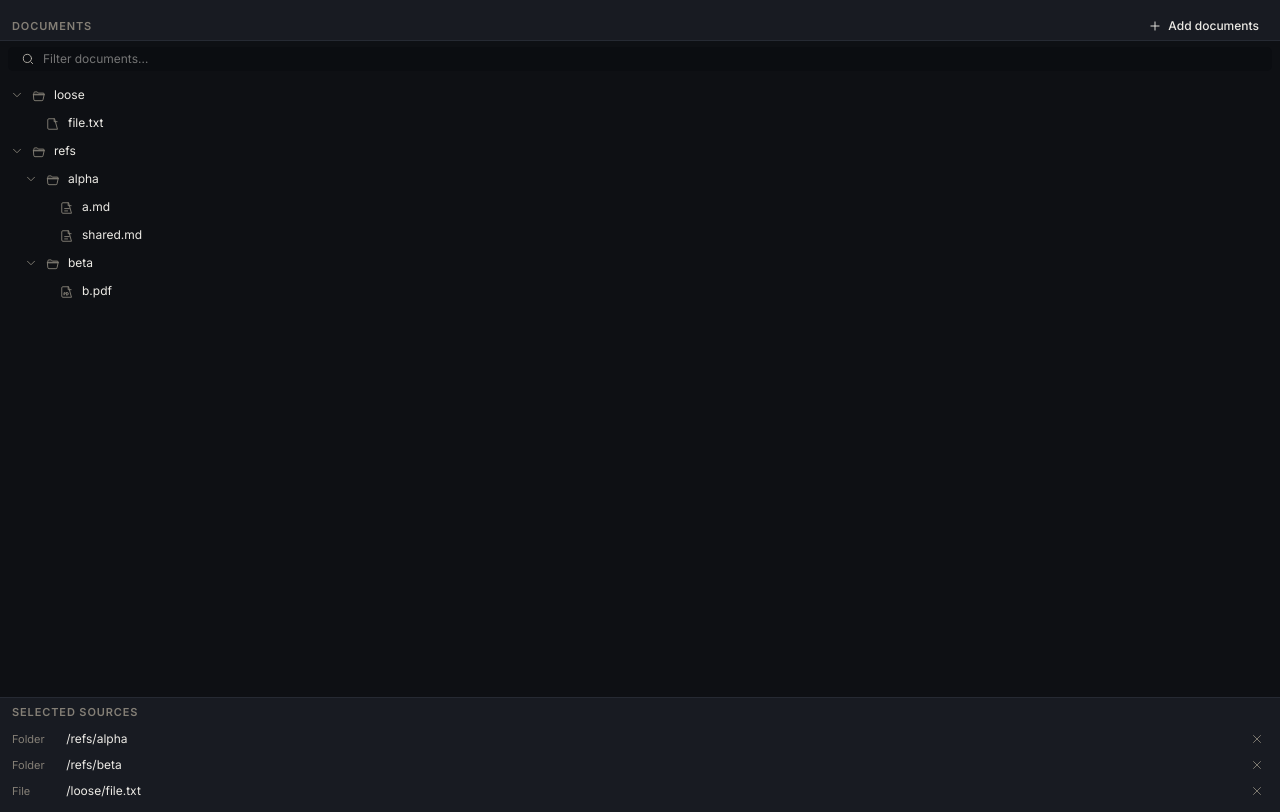
Scenario: DPN-FR-ZMBQ: the Add documents choice › DPN-FR-ZMBQ: a press outside the choice, and a second press on the button, close it
Check: the element showing "loose file.txt refs alpha a.md shared.md beta b.pdf" is shown, box [10,87,142,299]
Click the button "Add documents" at [1204, 26], box [1139,14,1268,38]
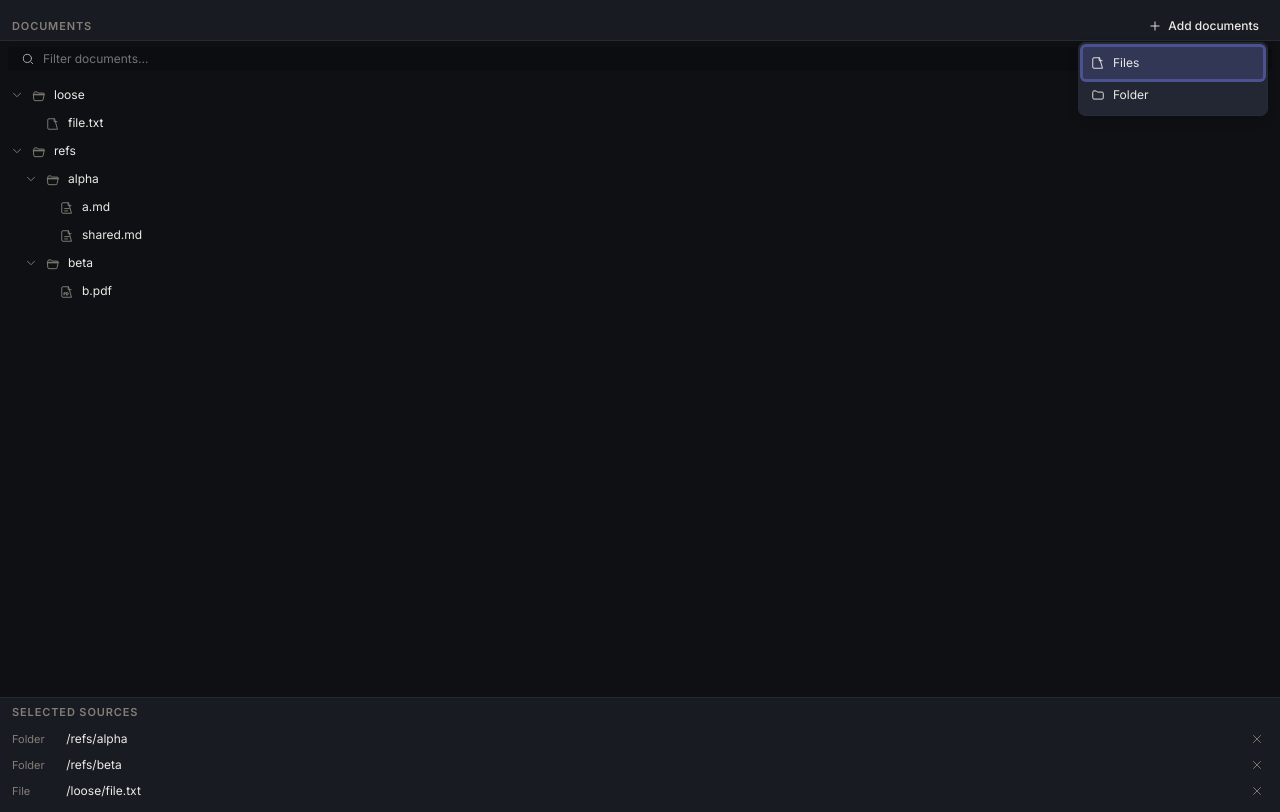
Click the element showing "loose file.txt refs alpha a.md shared.md beta b.pdf" at [69, 94], box [10,87,142,299]
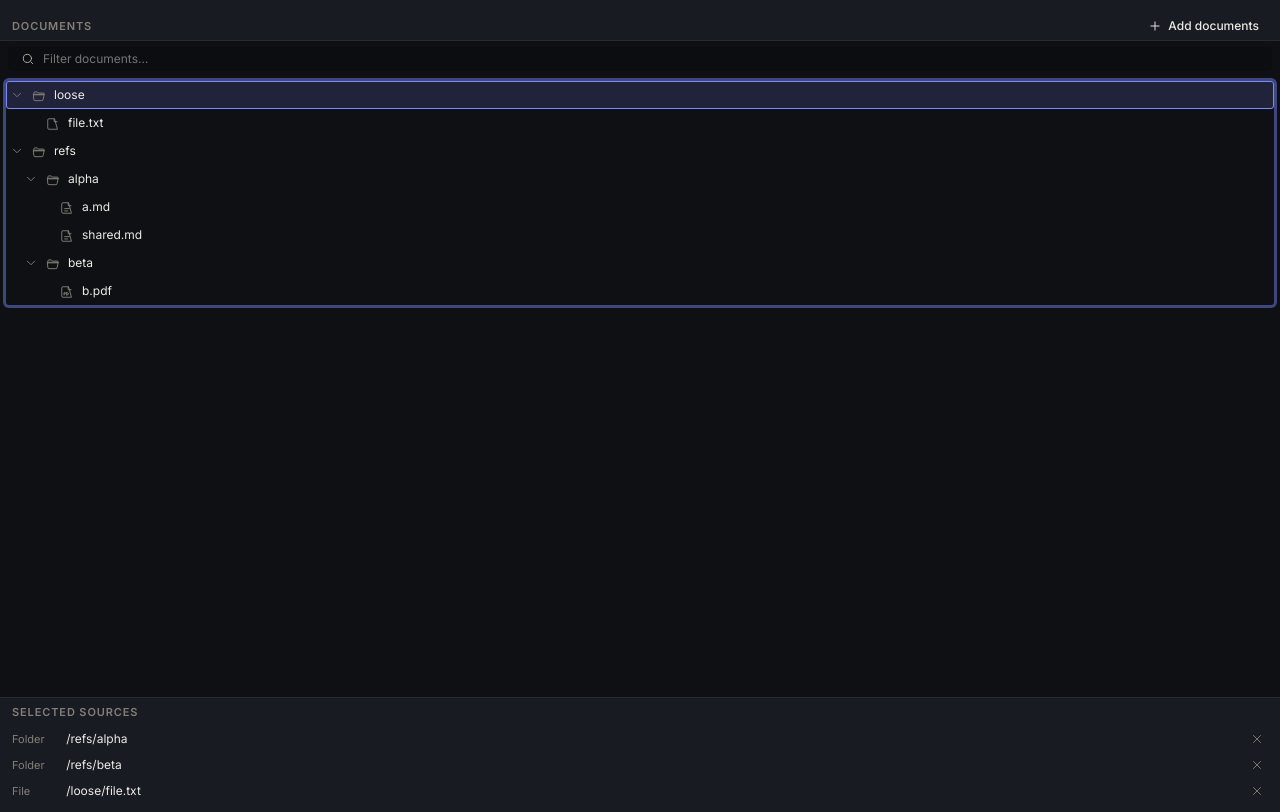
Check: the menu is gone
Click the button "Add documents" at [1204, 26], box [1139,14,1268,38]
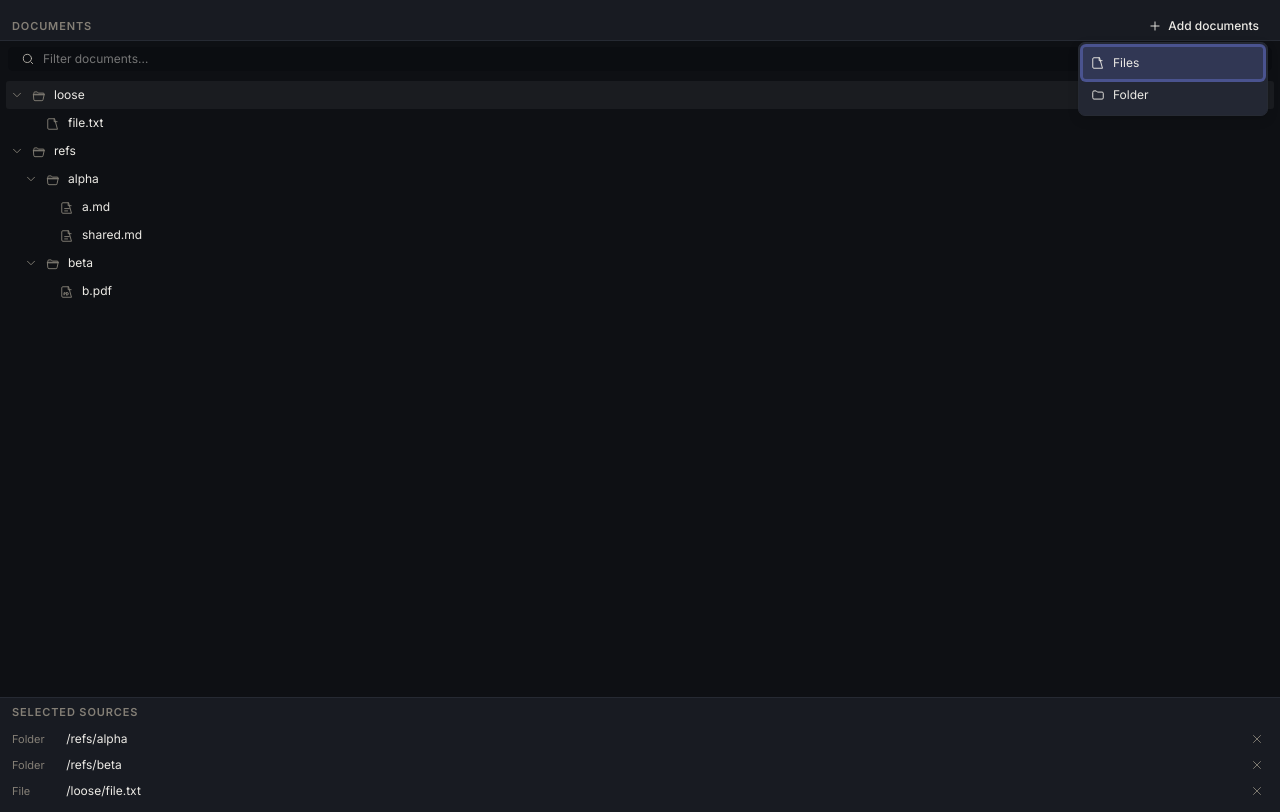
Check: the menu is shown, box [1078,42,1268,116]
Click the button "Add documents" at [1204, 26], box [1139,14,1268,38]
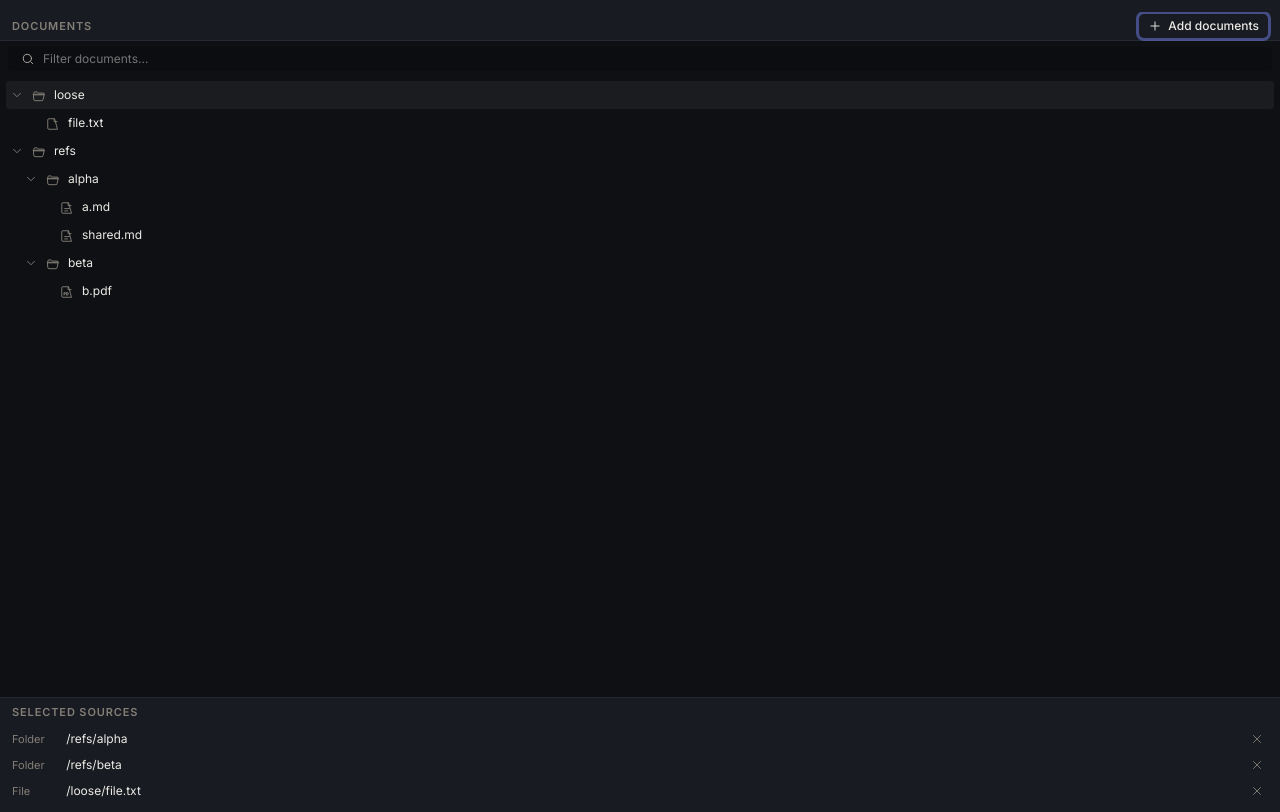
Check: the menu is gone
